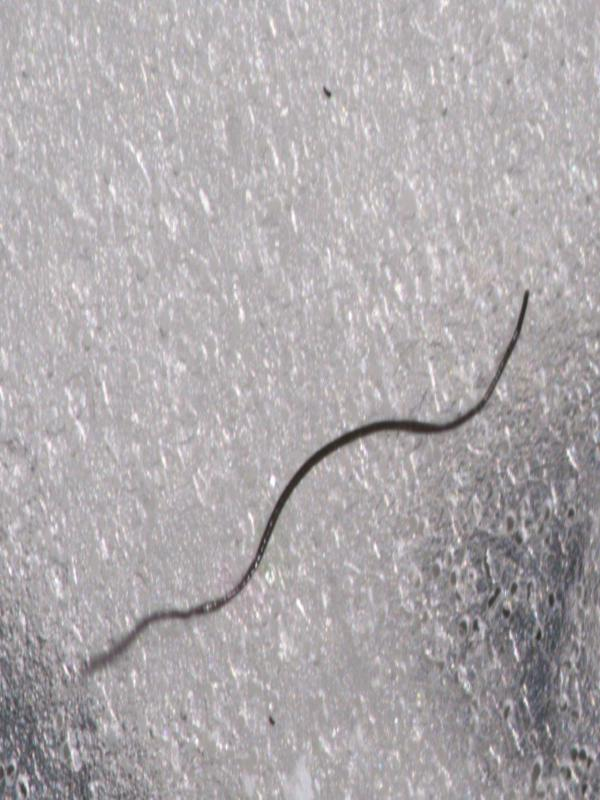microplastic: (77, 285, 530, 679)
